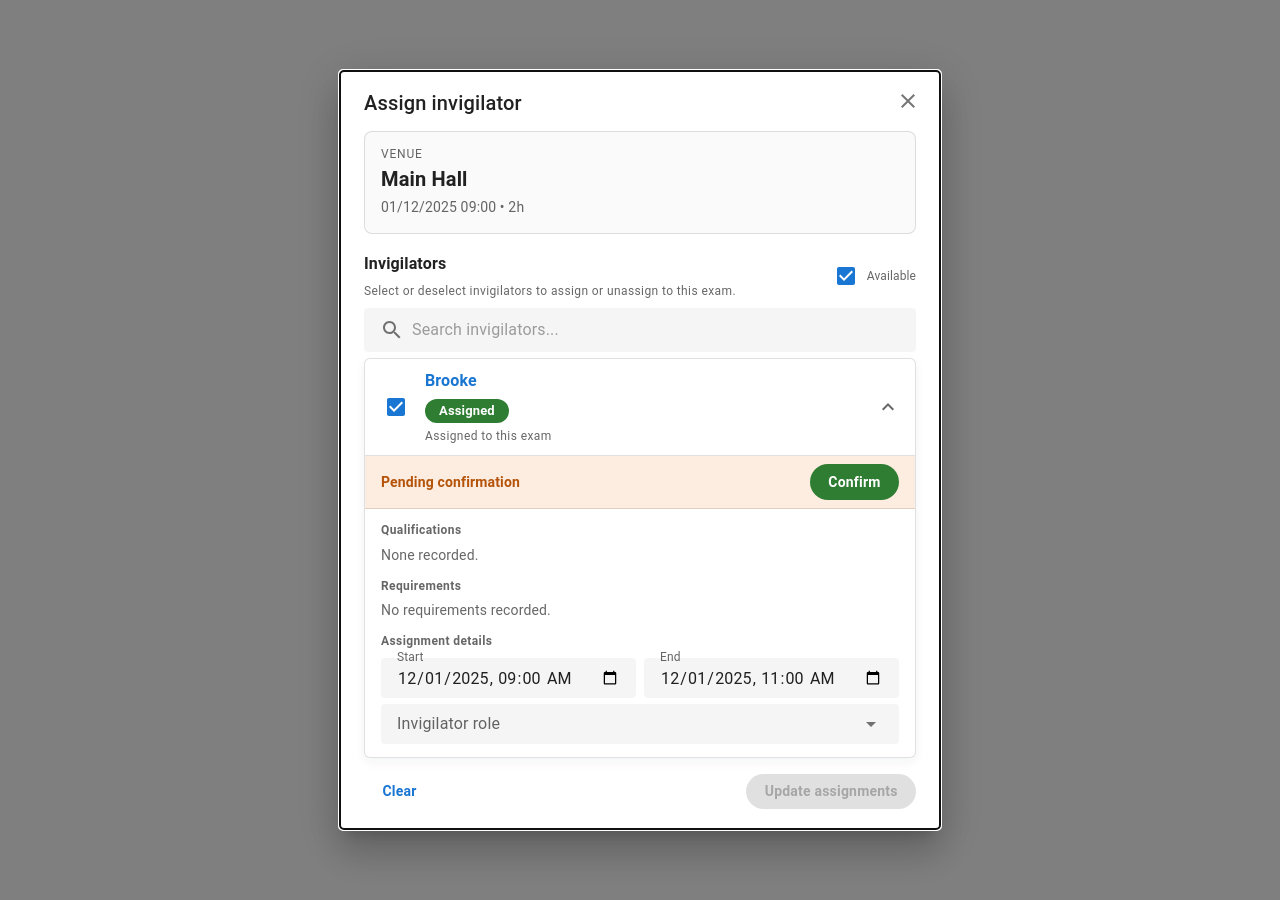
it: Components - AssignInvigilatorDialog › marks invigilators already assigned to the exam venue and allows unassigning
Expected: the text "Assigned to this exam" is shown, x1=425 y1=429 x2=552 y2=443
Click the checkbox named "brooke": click(396, 407) x1=384 y1=395 x2=408 y2=419
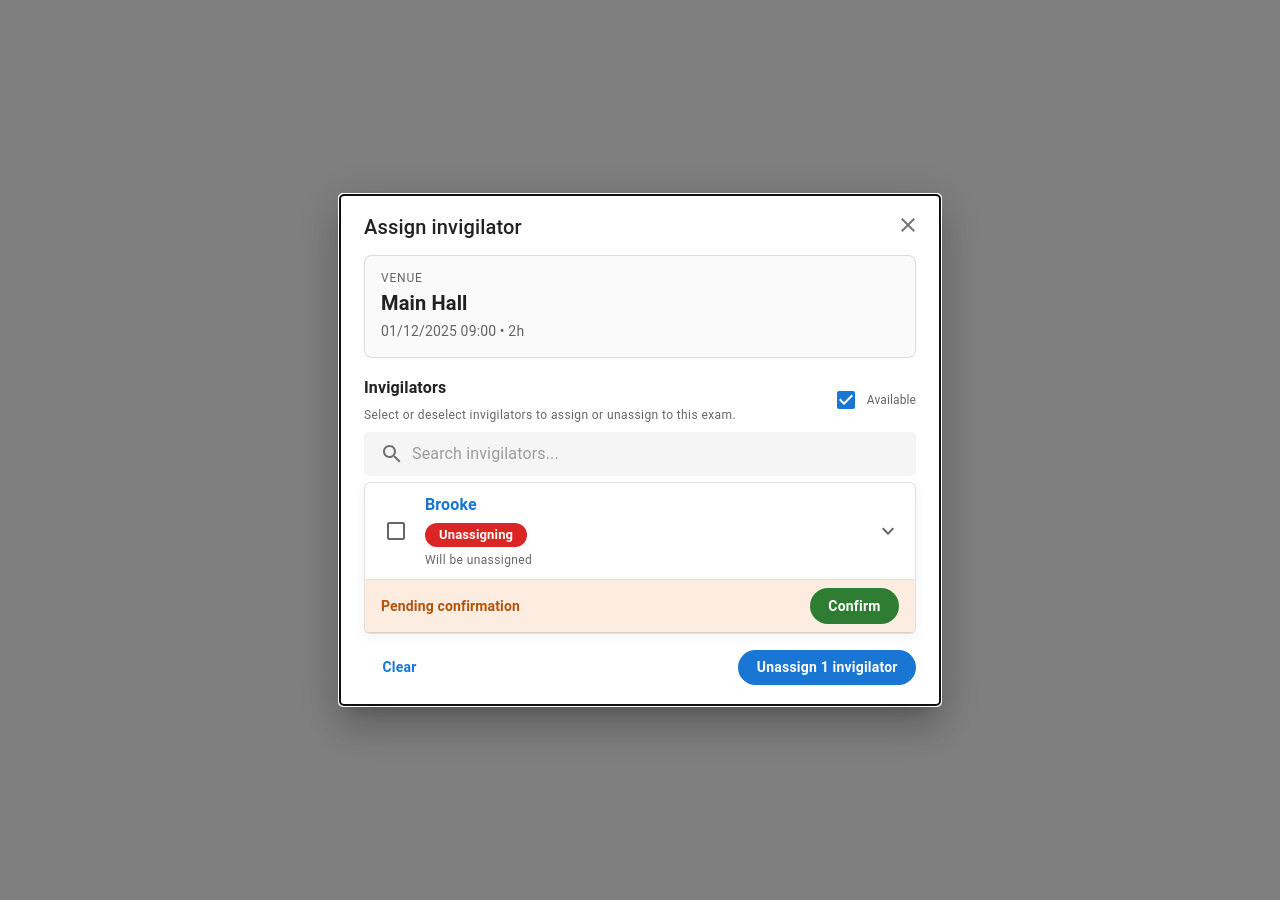
Result: the text "Will be unassigned" is shown at x1=425 y1=553 x2=532 y2=567
